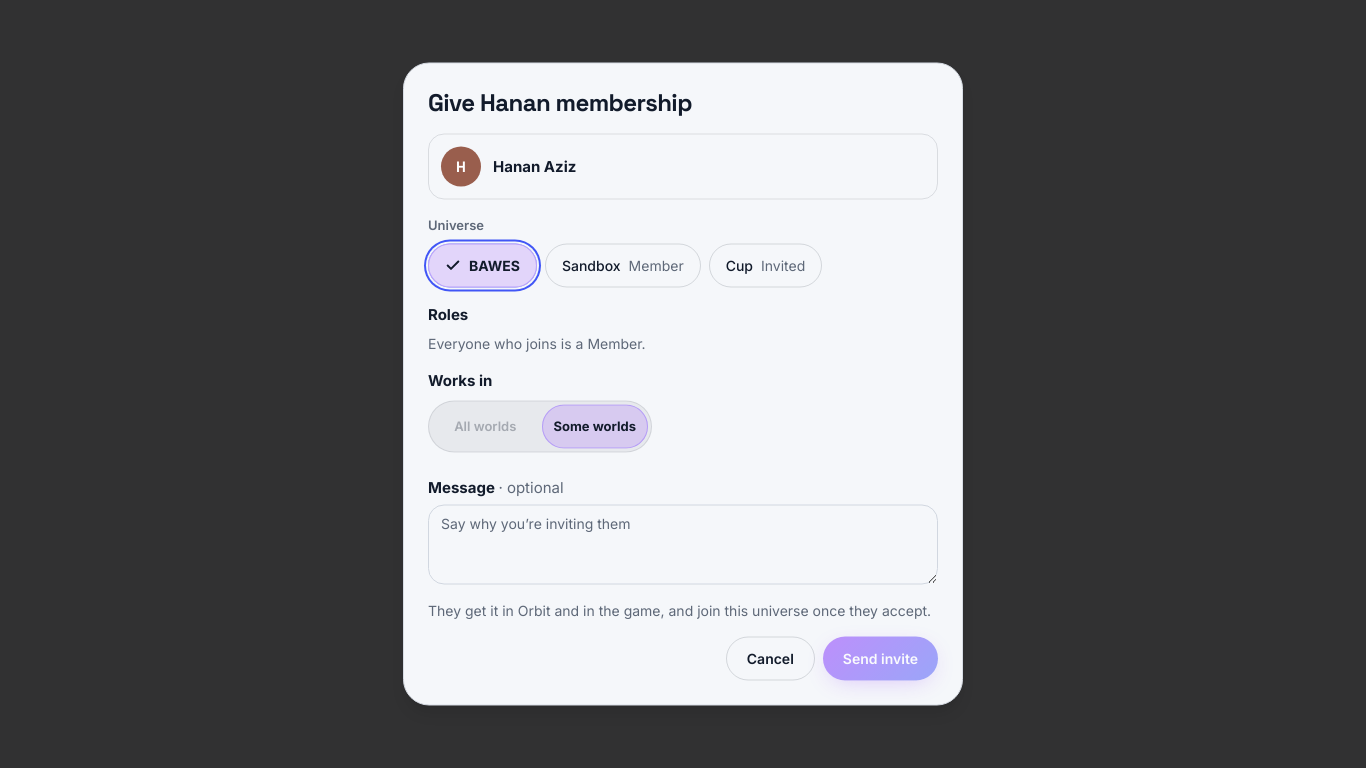
Test: says Give membership when opened from a profile, and lets you look at the universes they are already in or invited to
Expected: the heading "Give Hanan membership" is shown, [428,86,692,118]
Expected: the button "BAWES" is enabled, [428,243,537,287]
Click the button "Cup Invited" at {"x": 766, "y": 265}, box [709,243,822,287]
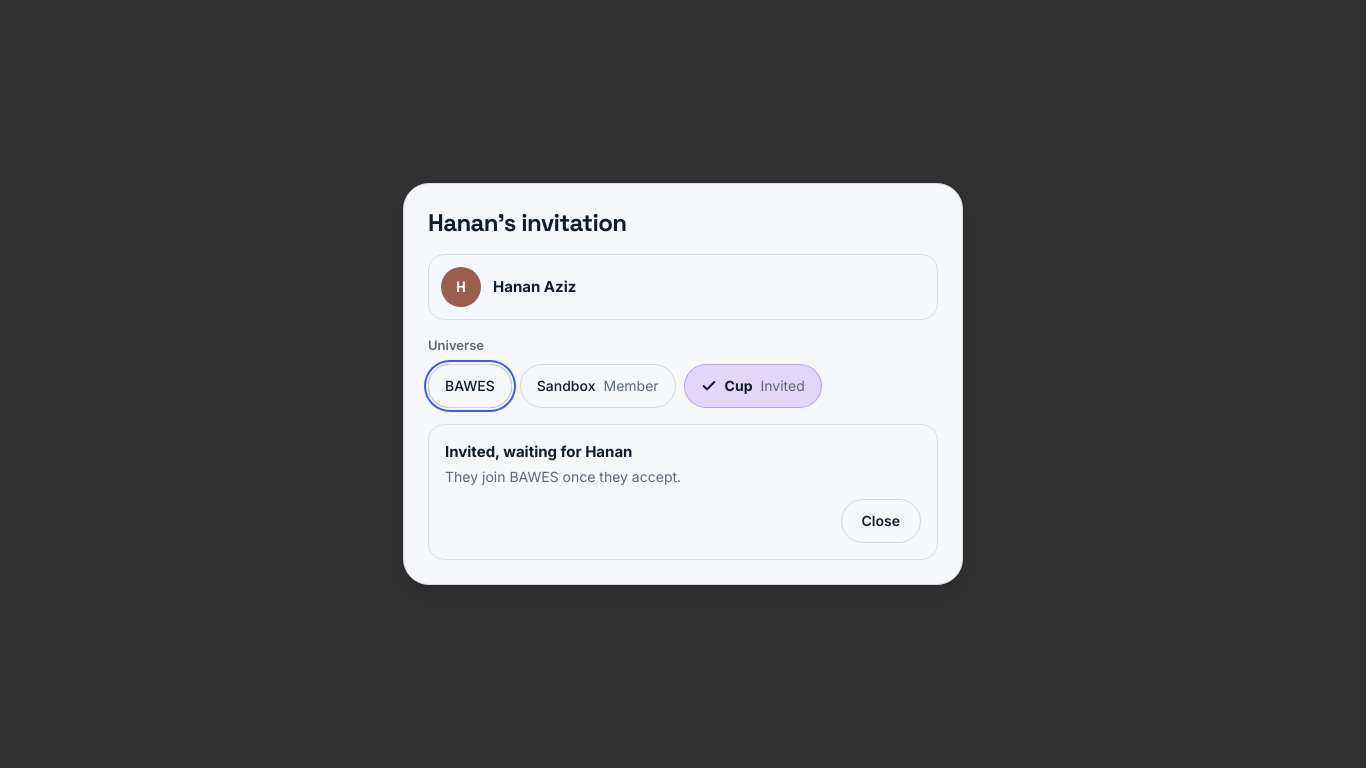
Now the heading "Hanan’s invitation" is shown, box [428,207,626,238]
Now the button "Send invite" is gone
